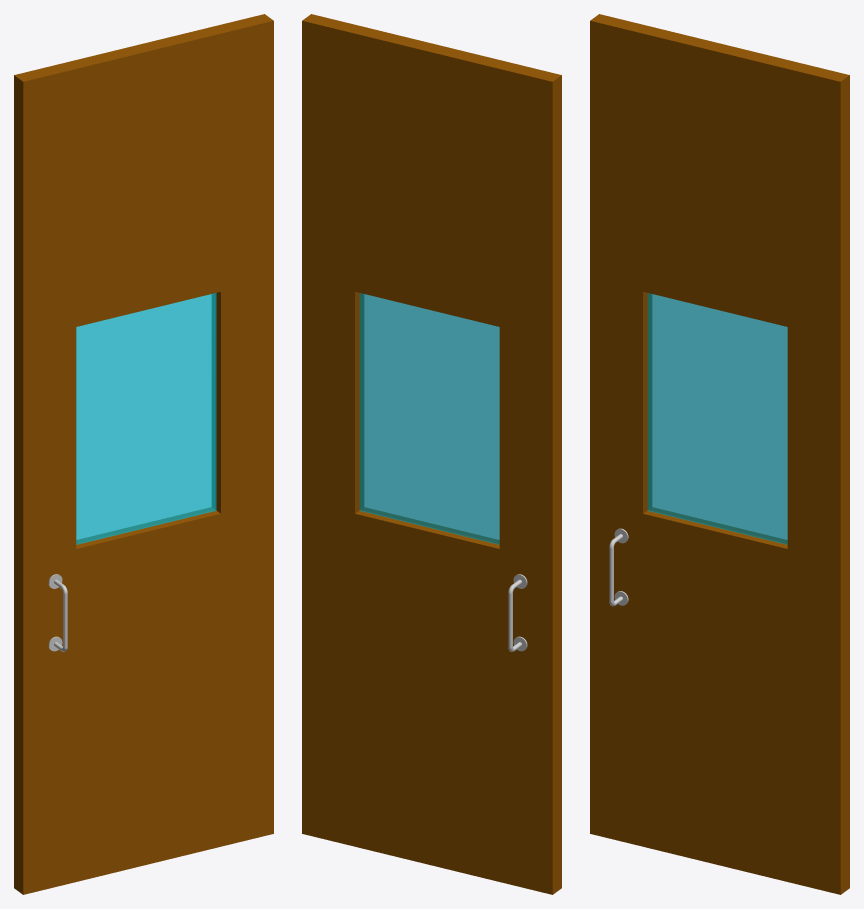
File: puerta_doble_derecha.glb
The picture shows the model from 3 angles, left to right: view 1: azimuth 30°, elevation 25°; view 2: azimuth 150°, elevation 25°; view 3: azimuth 330°, elevation 25°; orthographic projection.
Visible parts, largest first — view 1: Asset3DLoader.sceneRoot; view 2: Asset3DLoader.sceneRoot; view 3: Asset3DLoader.sceneRoot.
Part boxes in pixels (x1,y1,x2,y2): Asset3DLoader.sceneRoot: [14, 14, 273, 894]; Asset3DLoader.sceneRoot: [302, 14, 561, 894]; Asset3DLoader.sceneRoot: [590, 14, 849, 894].
Size of the model in its own units: 945 by 2930 by 210.
